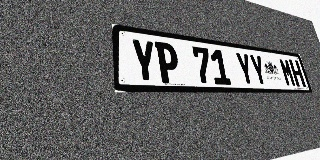1: (208, 49, 231, 85)
7: (191, 46, 215, 84)
H: (289, 59, 306, 87)
M: (278, 58, 297, 87)
P: (154, 41, 181, 84)
Y: (130, 38, 158, 83), (235, 52, 256, 86), (248, 54, 268, 86)
